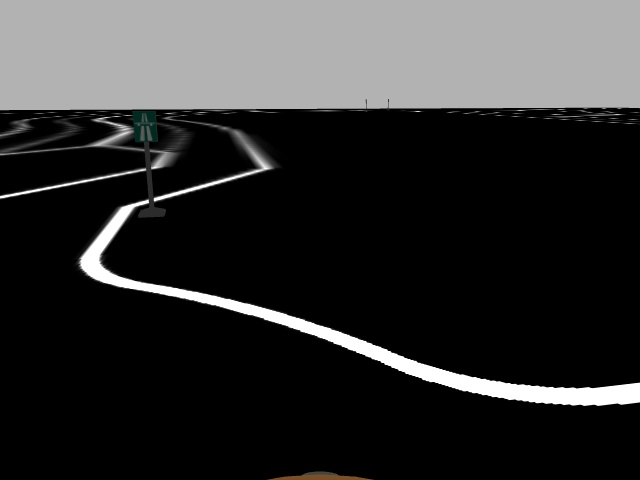enter_highway: (131, 110, 159, 144)
